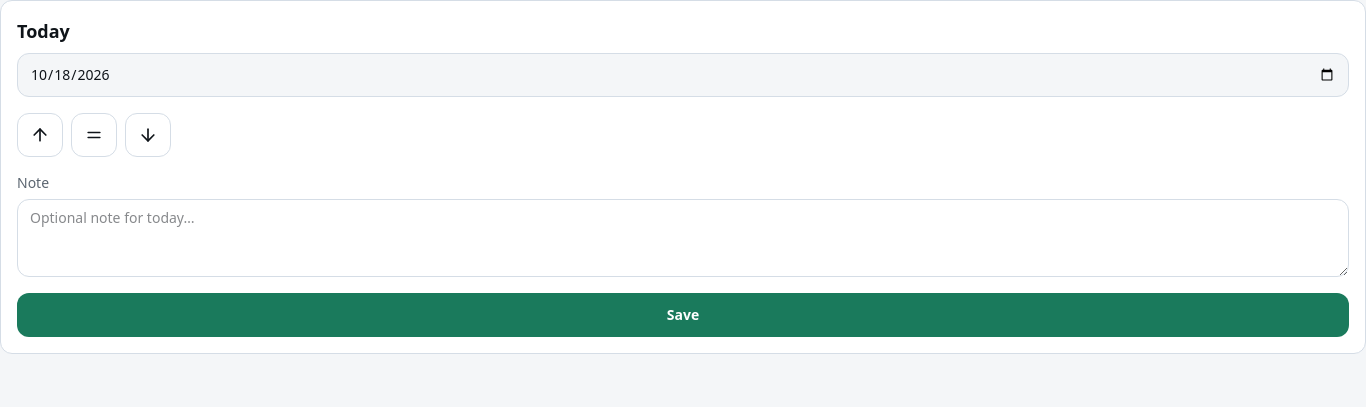
Test: DayEntryPanel › confirms before overwriting an existing rating on Save
This screenshot has width=1366, height=407.
Click the button named "Up" at (40, 135), box [17, 113, 63, 157]
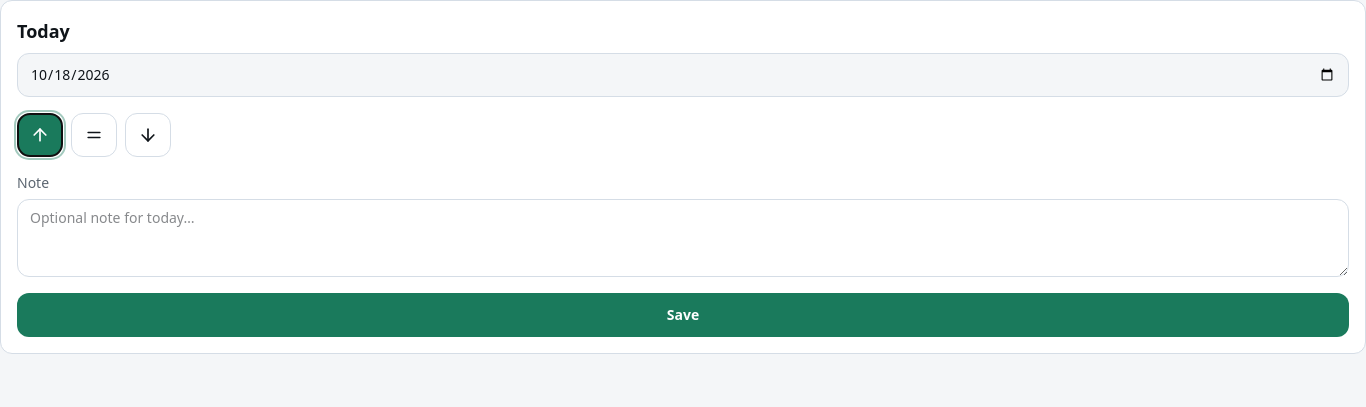
Click the button "Save" at (683, 315), box [17, 293, 1349, 337]
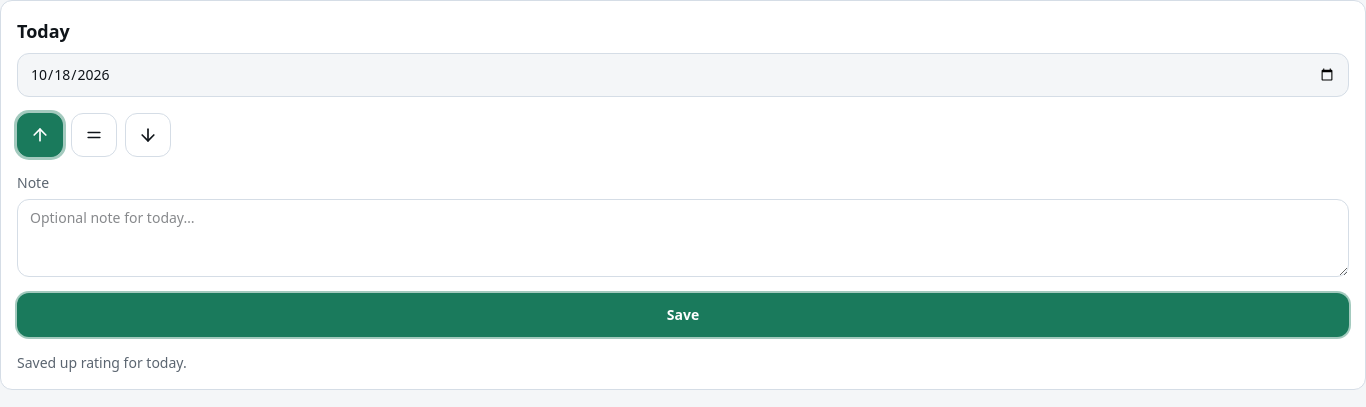
Click the button named "Down" at (148, 135), box [125, 113, 171, 157]
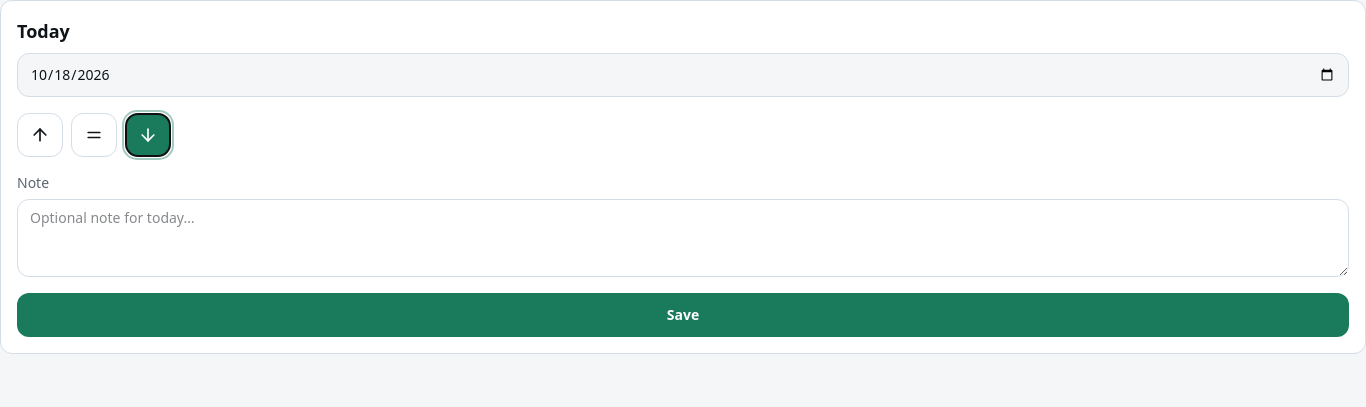
Click the button "Save" at (683, 315), box [17, 293, 1349, 337]
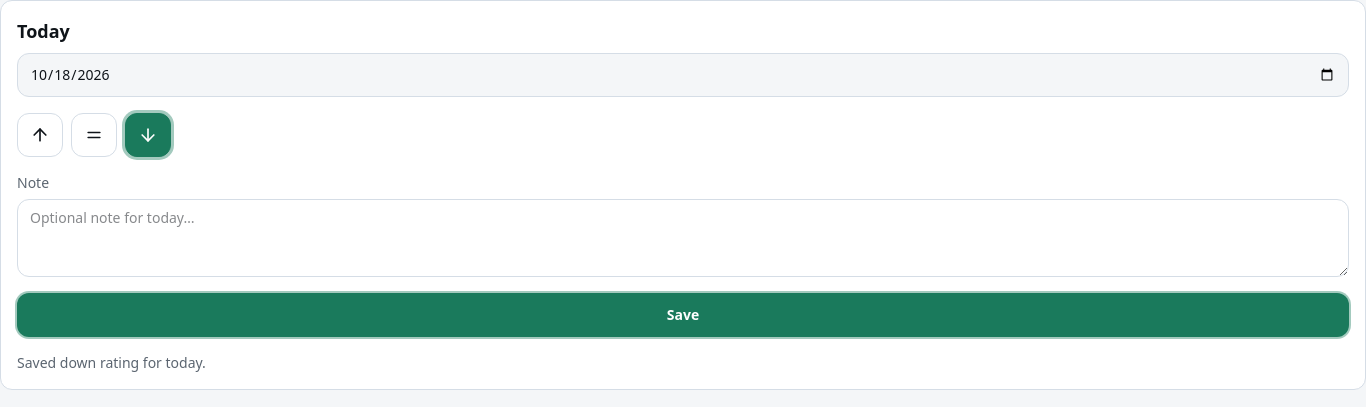
Result: the message shows "Saved down rating" at [17, 353, 206, 372]
